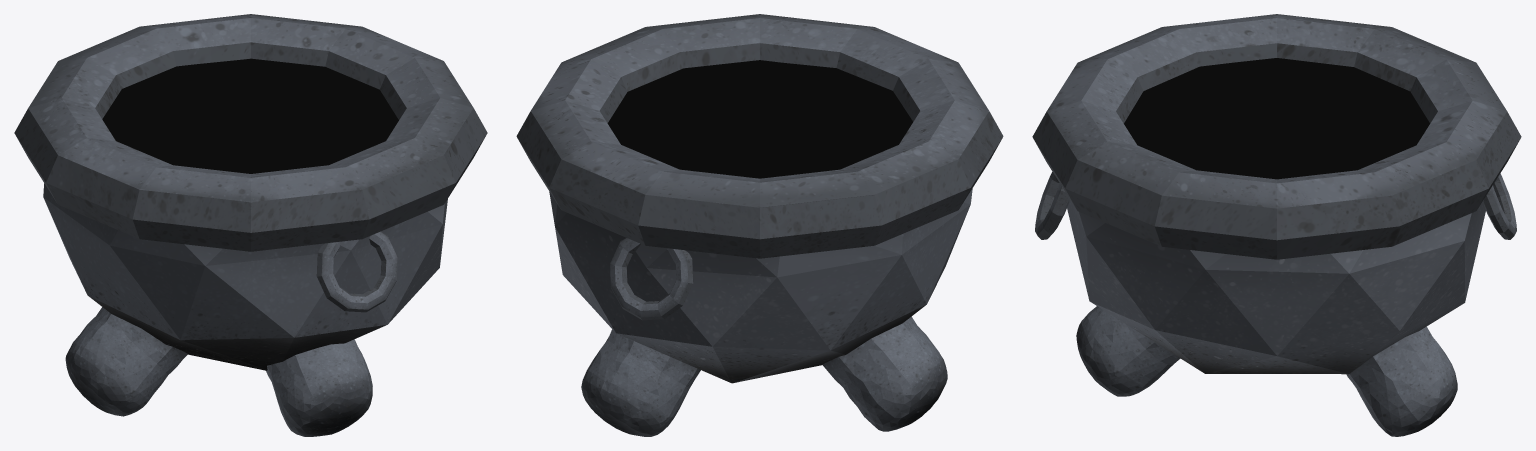
Rendered from TexturedCauldron.glb.
3 renders of one model, left to right at view 1: azimuth 30°, elevation 25°; view 2: azimuth 150°, elevation 25°; view 3: azimuth 270°, elevation 25°, orthographic. The views are drawn at different scales.
Visible parts, largest first — view 1: Cauldron Top, Cauldron Base, Cauldron Leg 3, Cauldron Leg 1, Cauldron Handle 2; view 2: Cauldron Base, Cauldron Top, Cauldron Leg 3, Cauldron Leg 2, Cauldron Handle 1; view 3: Cauldron Base, Cauldron Top, Cauldron Leg 2, Cauldron Leg 1, Cauldron Handle 2, Cauldron Handle 1.
Part boxes in pixels (box(x1,y1,x2,y2)): Cauldron Top: box(14, 14, 487, 251); Cauldron Base: box(43, 58, 447, 370); Cauldron Leg 3: box(65, 307, 187, 416); Cauldron Leg 1: box(266, 339, 372, 436); Cauldron Handle 2: box(316, 231, 397, 312); Cauldron Base: box(549, 60, 972, 383); Cauldron Top: box(516, 14, 1003, 258); Cauldron Leg 3: box(822, 316, 947, 431); Cauldron Leg 2: box(581, 329, 700, 436); Cauldron Handle 1: box(610, 238, 693, 320); Cauldron Base: box(1067, 58, 1485, 374); Cauldron Top: box(1032, 14, 1521, 259); Cauldron Leg 2: box(1346, 326, 1457, 436); Cauldron Leg 1: box(1076, 306, 1180, 396); Cauldron Handle 2: box(1035, 172, 1069, 239); Cauldron Handle 1: box(1483, 173, 1516, 239).
Bounding box in the file's own units: 3.07 × 2.08 × 3.07.
7 materials, 7 textured.
